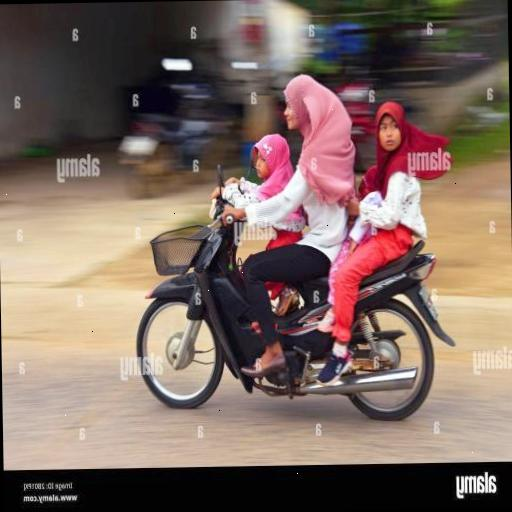no helmet: (264, 62, 354, 185)
triple riding: (129, 40, 469, 446)
